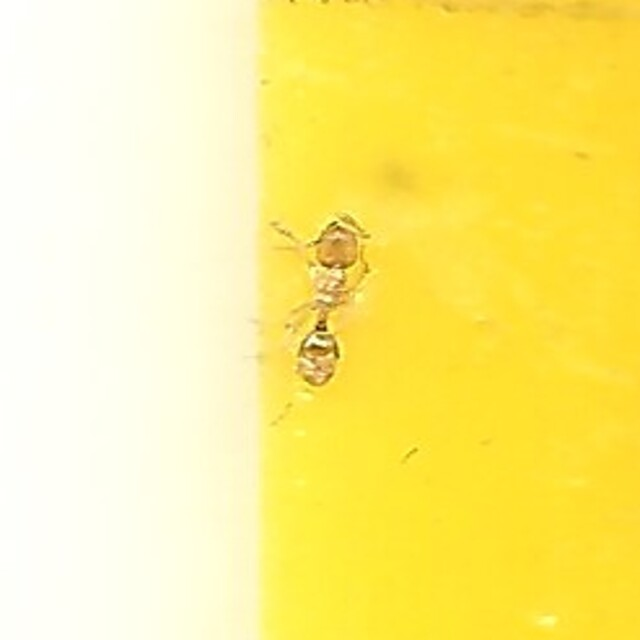Hymenoptera: (259, 217, 381, 423)
